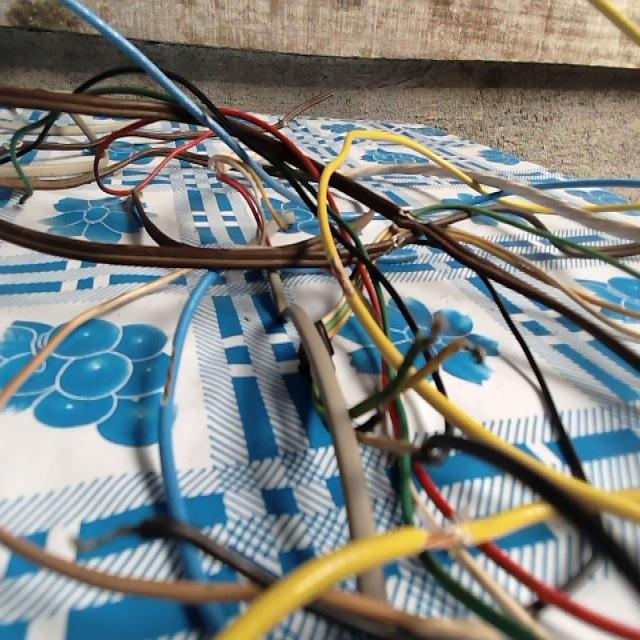-: (70, 517, 153, 547), (156, 342, 183, 410), (392, 204, 433, 229)
